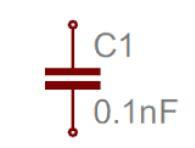Capacitor: (40, 58, 105, 98)
